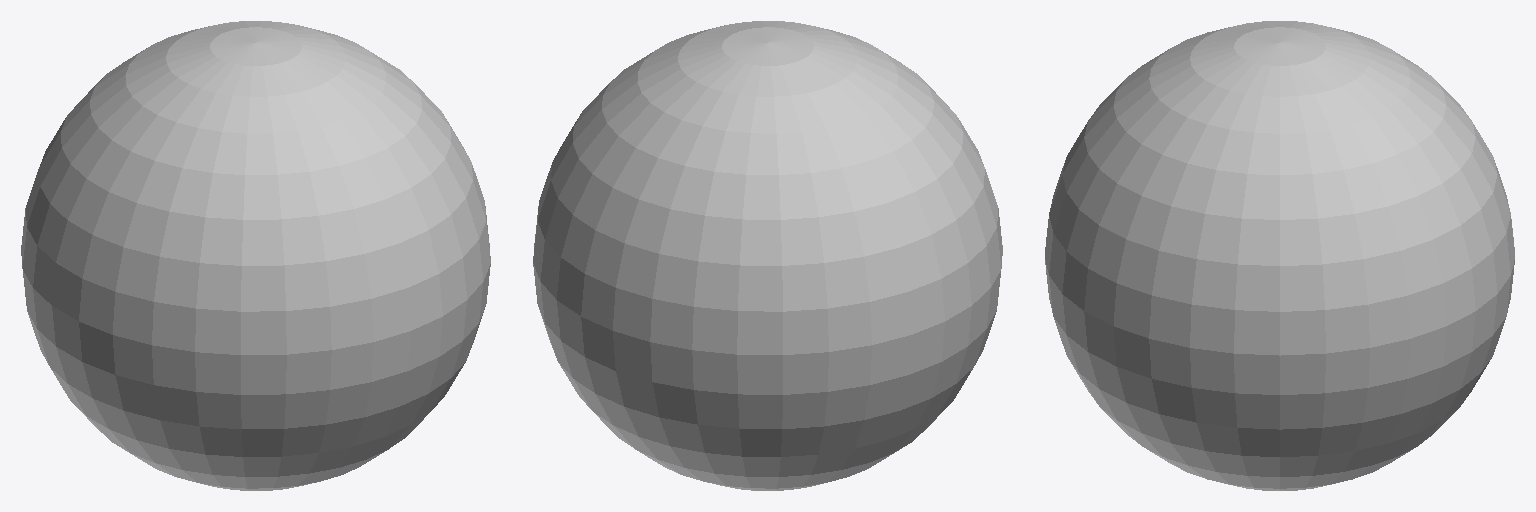
The model's file is ball.obj.
3 views of the same model, side by side, from view 1: azimuth 30°, elevation 25°; view 2: azimuth 150°, elevation 25°; view 3: azimuth 270°, elevation 25° (orthographic).
Parts seen in each view (by area): view 1: Sphere; view 2: Sphere; view 3: Sphere.
Boxes of the visible parts, box(x1,y1,x2,y2) form: Sphere: box(21, 21, 490, 490); Sphere: box(533, 21, 1002, 490); Sphere: box(1045, 21, 1514, 490).
Bounding box in the file's own units: 0.5 × 0.5 × 0.5.